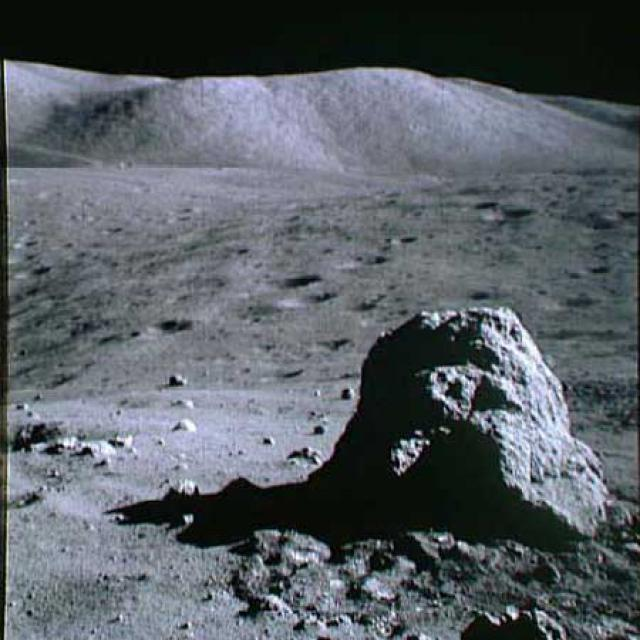crater: (0, 414, 149, 450), (248, 265, 324, 289), (136, 310, 197, 338), (552, 287, 600, 313), (469, 206, 536, 224), (286, 286, 336, 310)
rock: (312, 300, 614, 531), (227, 522, 326, 600), (453, 601, 564, 640), (286, 440, 328, 473), (167, 412, 196, 436), (166, 366, 186, 389)
